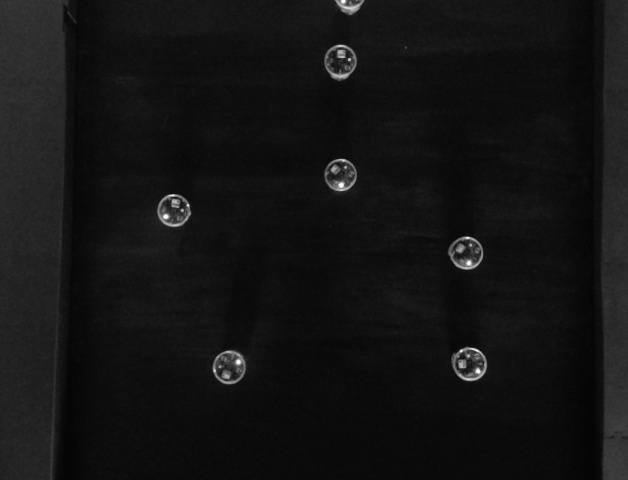epuck_2: (210, 348, 250, 386), (447, 235, 484, 271), (323, 44, 358, 81), (322, 159, 359, 194), (452, 346, 487, 382), (155, 192, 191, 226), (333, 1, 363, 17)
